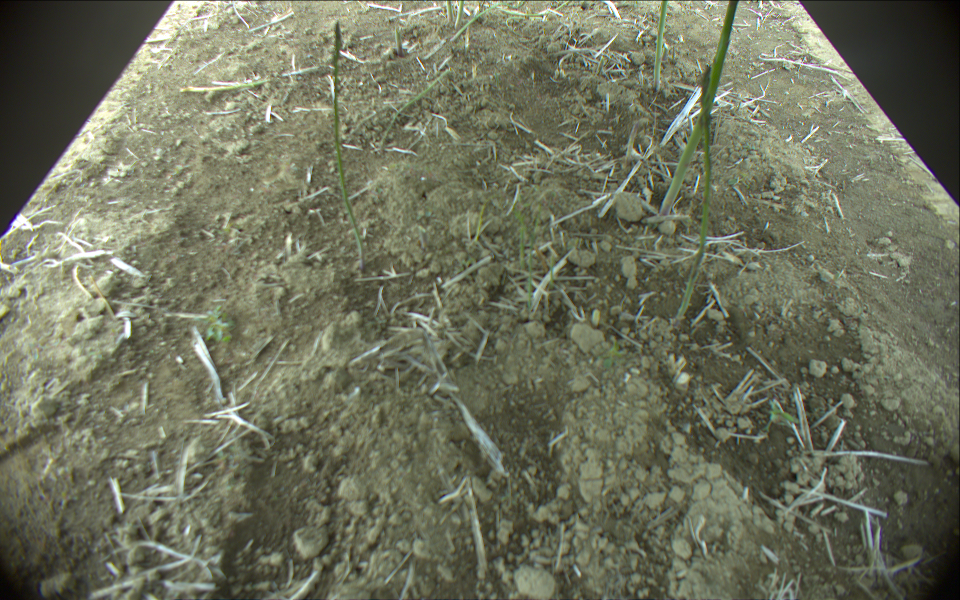aspa: (660, 1, 741, 218), (676, 65, 728, 317), (328, 20, 365, 269), (376, 65, 455, 155), (449, 1, 499, 42), (652, 1, 668, 89), (392, 21, 404, 55), (455, 1, 466, 28), (444, 1, 452, 22)
